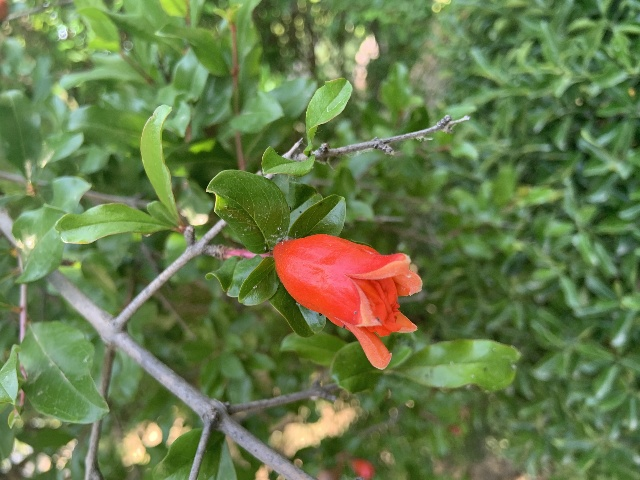flower: (274, 233, 421, 367)
